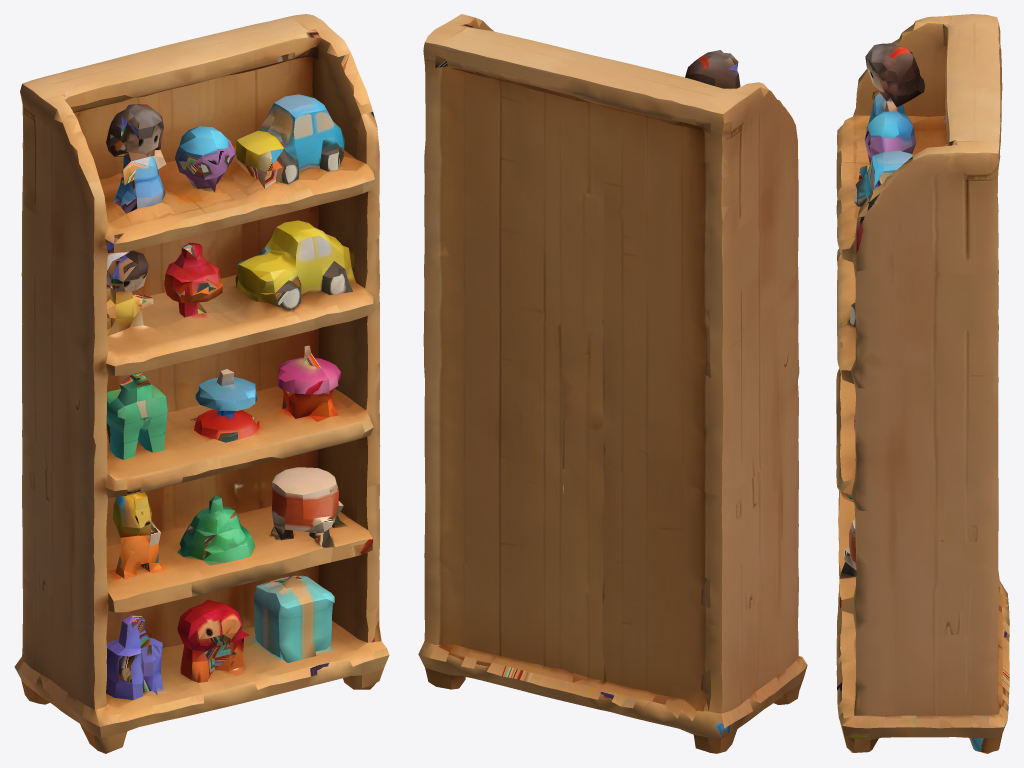
Rendered from xsw_shelf.glb.
3 views of the same model, side by side, from view 1: azimuth 30°, elevation 25°; view 2: azimuth 150°, elevation 25°; view 3: azimuth 270°, elevation 25° (orthographic). The views are drawn at different scales.
Parts seen in each view (by area): view 1: mesh_q; view 2: mesh_q; view 3: mesh_q.
Part boxes in pixels (left/top/right/bottom): mesh_q: left=14, top=14, right=389, bottom=753; mesh_q: left=418, top=14, right=807, bottom=753; mesh_q: left=836, top=14, right=1009, bottom=753.
Size of the model in its own units: 49.29 by 97.78 by 25.2.
1 material, 1 textured.
